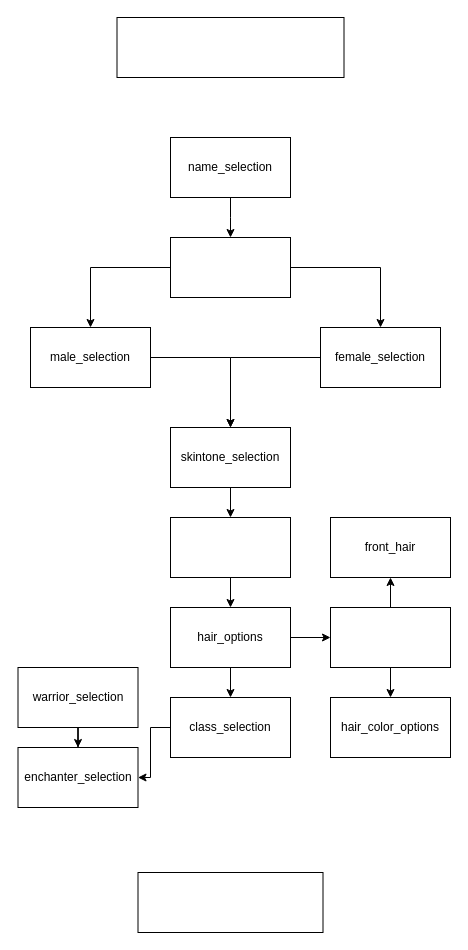
Some shapes in this 468 by 950 pixel diagram are drawn without their labels. Here are the shapes that lost their labels. From the top down, the box of each, then its label:
(116, 16, 344, 78): charcter_creator
(170, 236, 290, 298): gender_selection
(170, 516, 290, 578): eyes_color_options
(330, 606, 450, 668): rear_hair
(137, 872, 323, 932): Confirmer
